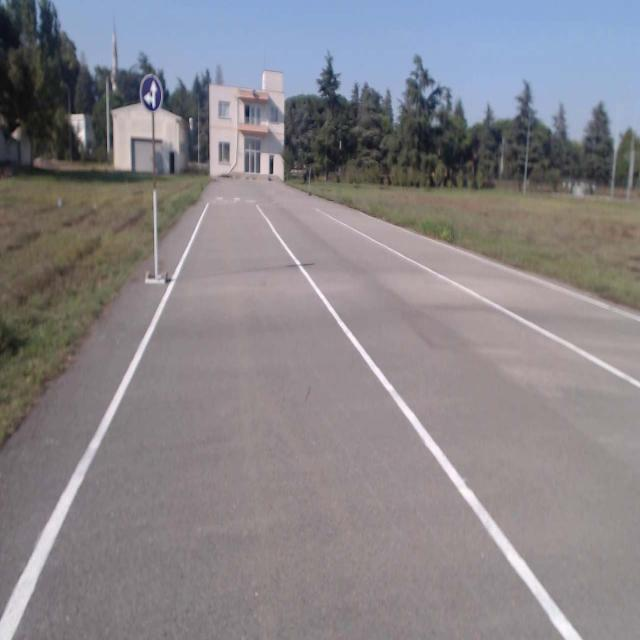ilerisol: (140, 72, 162, 111)
